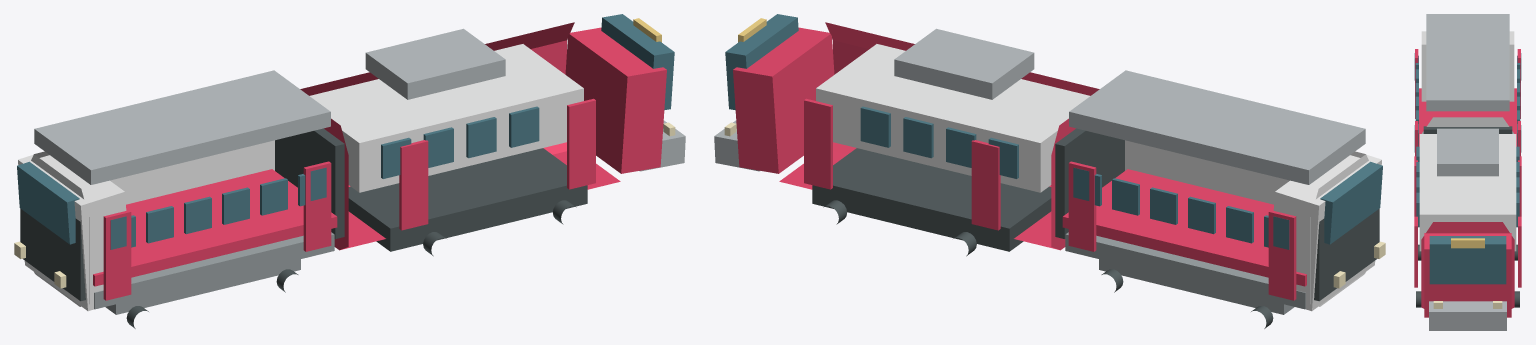
The picture shows the model from 3 angles, left to right: view 1: azimuth 30°, elevation 25°; view 2: azimuth 150°, elevation 25°; view 3: azimuth 270°, elevation 25°; orthographic projection. The views are drawn at different scales.
Visible parts, largest first — view 1: br648_car_1_roof, lint_silver_window_ribbon, undercarriage, lint_flat_cab_face, br648_car_1_identity_stripe, lint_roof_hvac, br648_car_1_chamfered_train_shell, br648_car_1_lower_skirt, lint_red_chamfered_shell, br648_car_1_tail_cab_face, br648_car_1_front_bellows, br648_car_1_rear_bellows (+18 smaller); view 2: br648_car_1_roof, lint_silver_window_ribbon, undercarriage, lint_flat_cab_face, br648_car_1_identity_stripe, lint_roof_hvac, br648_car_1_chamfered_train_shell, br648_car_1_lower_skirt, lint_red_chamfered_shell, br648_car_1_tail_cab_face, br648_car_1_front_bellows, br648_car_1_rear_bellows (+18 smaller); view 3: br648_car_1_roof, lint_silver_window_ribbon, lint_broad_black_windscreen, lint_roof_hvac, lint_flat_cab_face, lint_grey_lower_apron, lint_red_chamfered_shell, br648_car_1_identity_stripe, br648_car_1_tail_cab_face, br648_car_1_chamfered_train_shell, destination_display, br648_car_1_front_bellows (+12 smaller).
Boxes of the visible parts, x1,y1,x2,y2 form: br648_car_1_roof: (34,70,330,184); lint_silver_window_ribbon: (310,44,583,192); undercarriage: (348,148,587,251); lint_flat_cab_face: (565,27,666,173); br648_car_1_identity_stripe: (93,169,337,286); lint_roof_hvac: (365,28,505,99); br648_car_1_chamfered_train_shell: (31,140,274,306); br648_car_1_lower_skirt: (94,232,334,309); lint_red_chamfered_shell: (300,22,620,250); br648_car_1_tail_cab_face: (18,151,126,311); br648_car_1_front_bellows: (275,128,344,238); br648_car_1_rear_bellows: (20,208,85,301); br648_car_1_roof: (1069,70,1365,184); lint_silver_window_ribbon: (816,44,1089,192); undercarriage: (812,148,1051,251); lint_flat_cab_face: (733,27,834,173); br648_car_1_identity_stripe: (1062,169,1306,286); lint_roof_hvac: (894,28,1034,99); br648_car_1_chamfered_train_shell: (1125,140,1368,306); br648_car_1_lower_skirt: (1065,232,1305,309); lint_red_chamfered_shell: (779,22,1099,250); br648_car_1_tail_cab_face: (1273,151,1381,311); br648_car_1_front_bellows: (1055,128,1124,238); br648_car_1_rear_bellows: (1314,208,1379,301); br648_car_1_roof: (1426,14,1509,111); lint_silver_window_ribbon: (1419,134,1516,251); lint_broad_black_windscreen: (1429,236,1506,284); lint_roof_hvac: (1437,128,1498,176); lint_flat_cab_face: (1424,233,1511,317); lint_grey_lower_apron: (1429,301,1506,330); lint_red_chamfered_shell: (1421,222,1514,308); br648_car_1_identity_stripe: (1419,88,1516,146); br648_car_1_tail_cab_face: (1421,31,1514,101); br648_car_1_chamfered_train_shell: (1422,117,1513,133); destination_display: (1451,238,1484,248); br648_car_1_front_bellows: (1423,126,1512,133).
Size of the model in its own units: 3.93 by 1.02 by 0.795.
